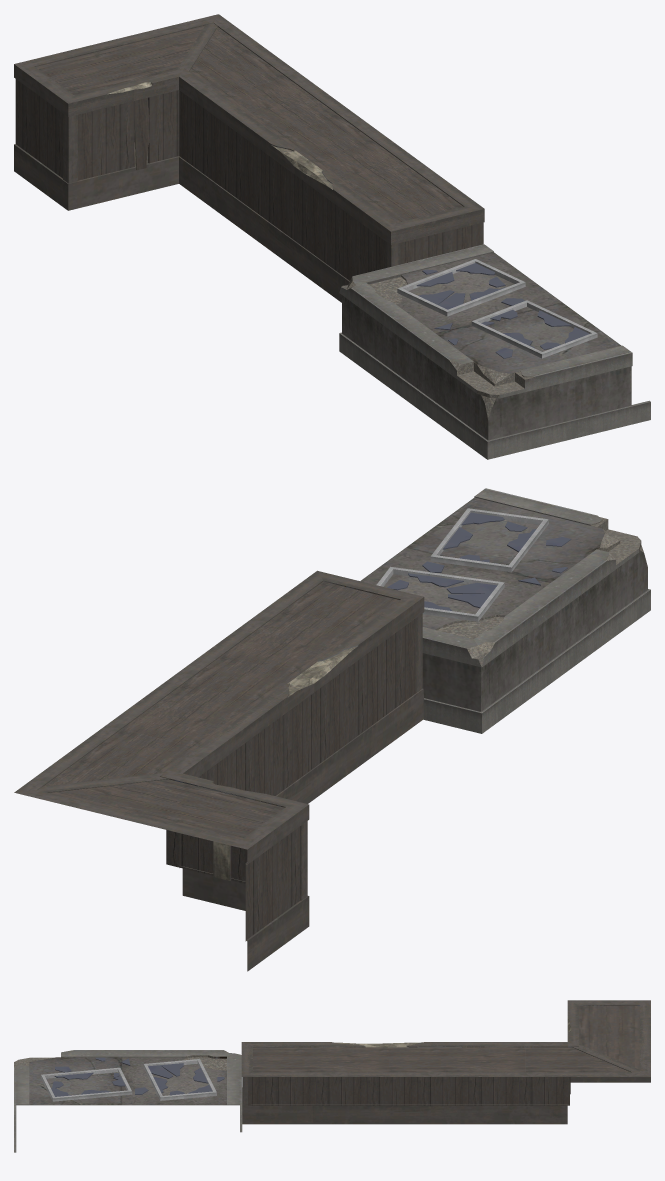
The model's file is Cemetery_STR_House_01_Interior.fbx.
3 renders of one model, top to bottom at view 1: azimuth 30°, elevation 25°; view 2: azimuth 150°, elevation 25°; view 3: azimuth 270°, elevation 25°, orthographic. The views are drawn at different scales.
Parts seen in each view (by area): view 1: Cemetery_STR_House_01_Interior; view 2: Cemetery_STR_House_01_Interior; view 3: Cemetery_STR_House_01_Interior.
Boxes of the visible parts, box(x1,y1,x2,y2) form: Cemetery_STR_House_01_Interior: box(14, 14, 650, 459); Cemetery_STR_House_01_Interior: box(14, 488, 650, 971); Cemetery_STR_House_01_Interior: box(14, 1000, 650, 1152).
Bounding box in the file's own units: 262 × 120 × 840.
1 material, 1 textured.
